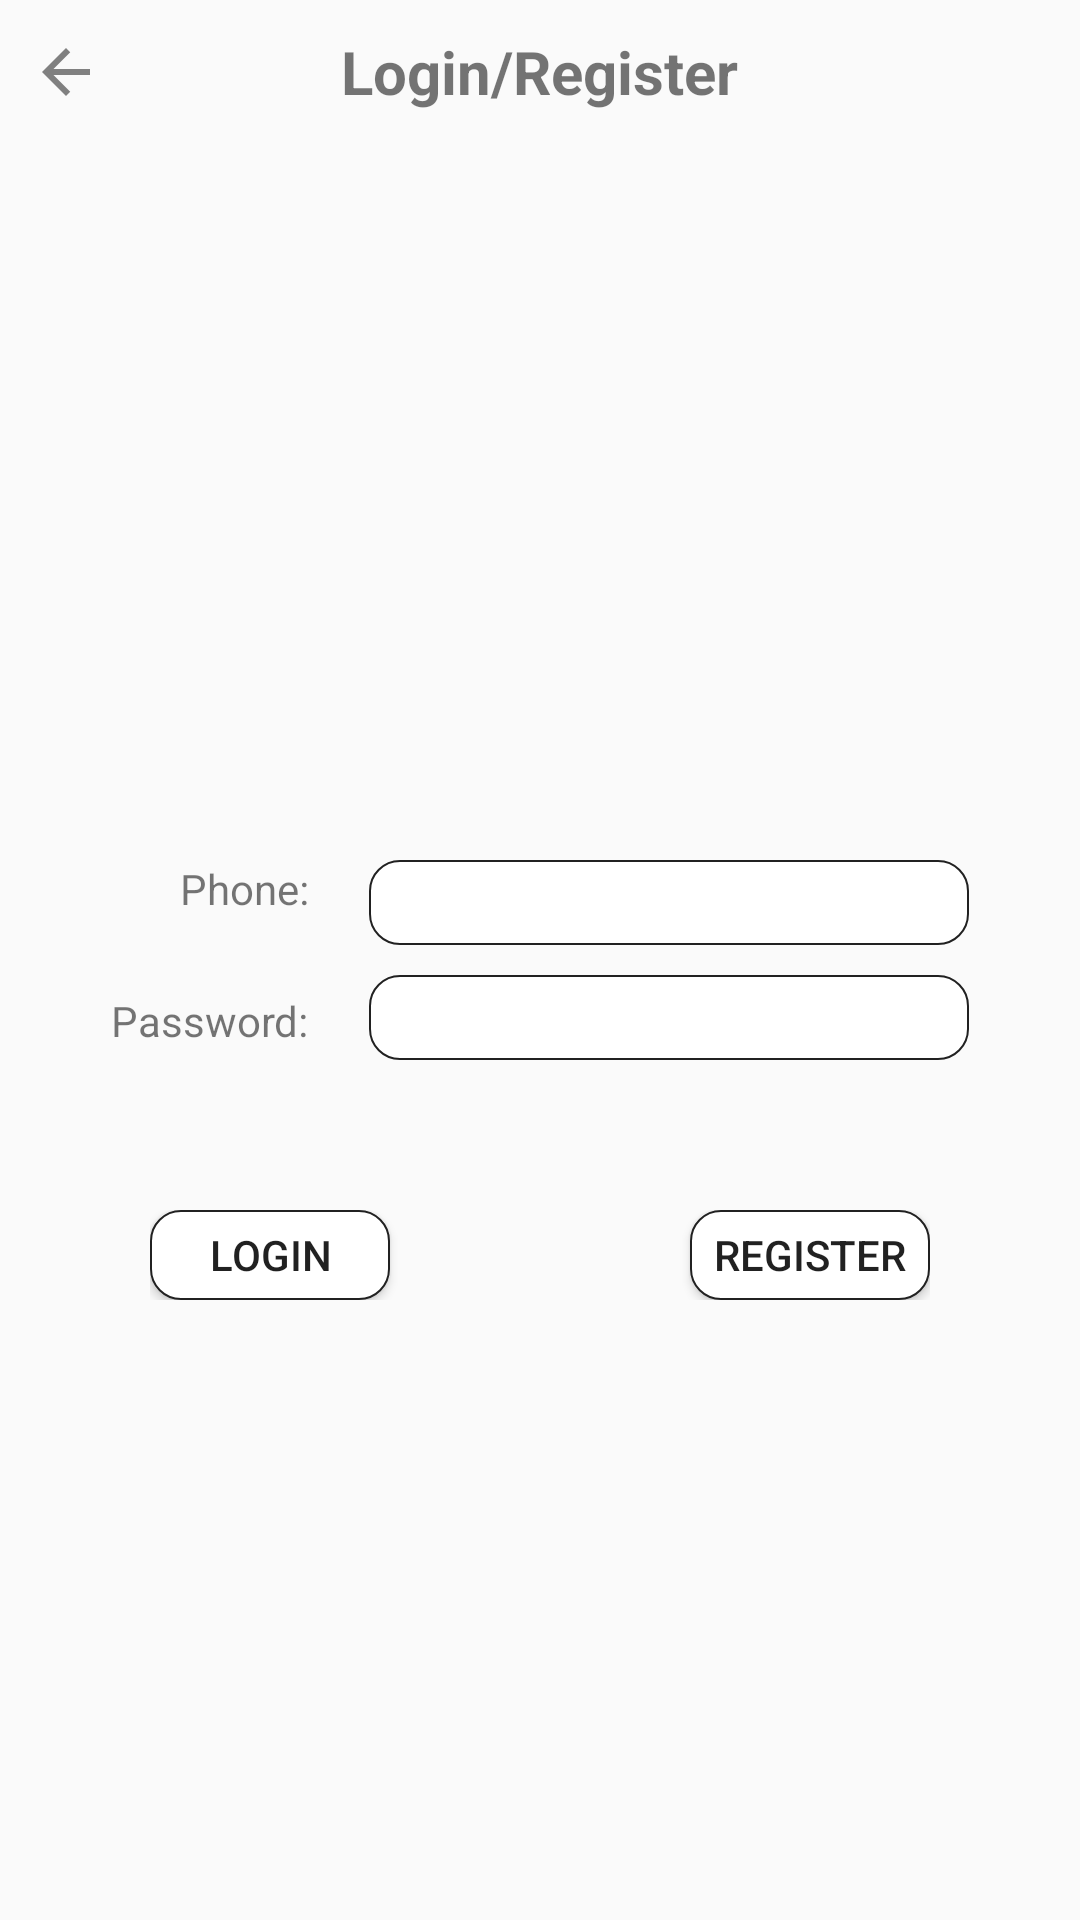

Screen size 1080*1920. Icon name, then its center in pixels as [x,y]:
activity show back: [66,72]
